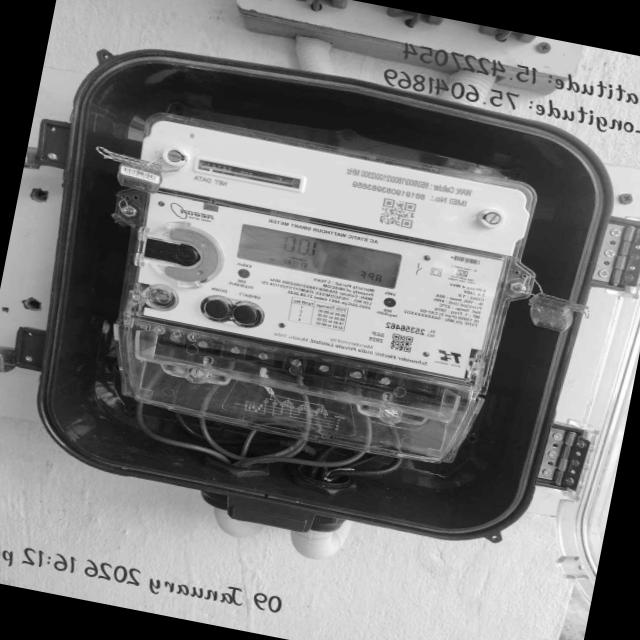meter: (119, 115, 532, 388)
